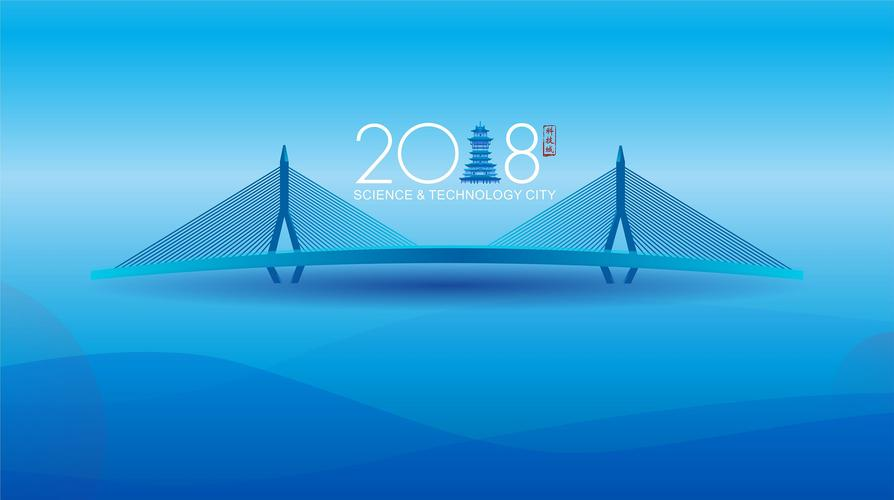buildings: (81, 137, 494, 280)
sky_cloud: (35, 240, 871, 459)
